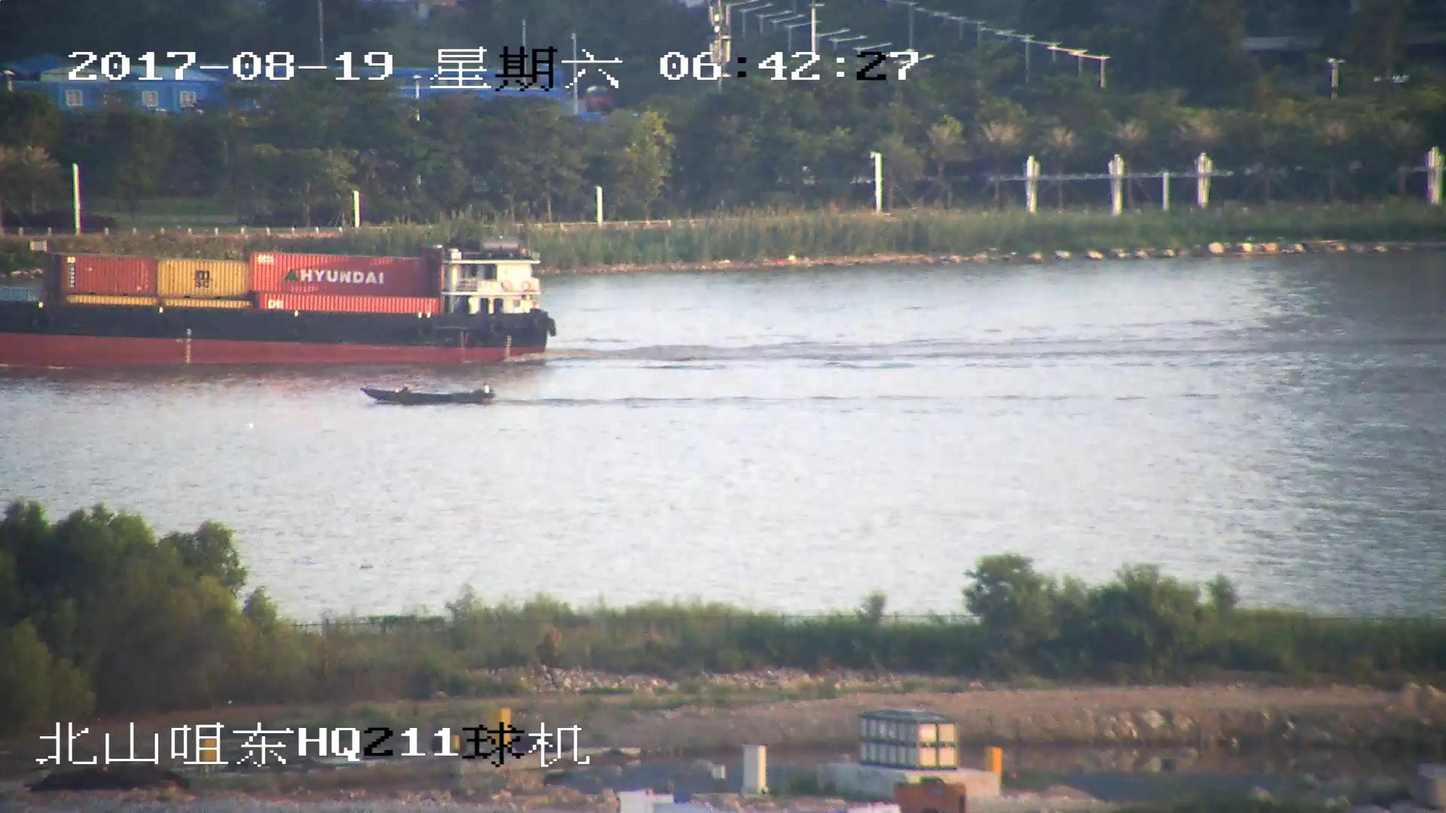container ship: (0, 233, 556, 366)
fishing boat: (355, 382, 496, 407)
